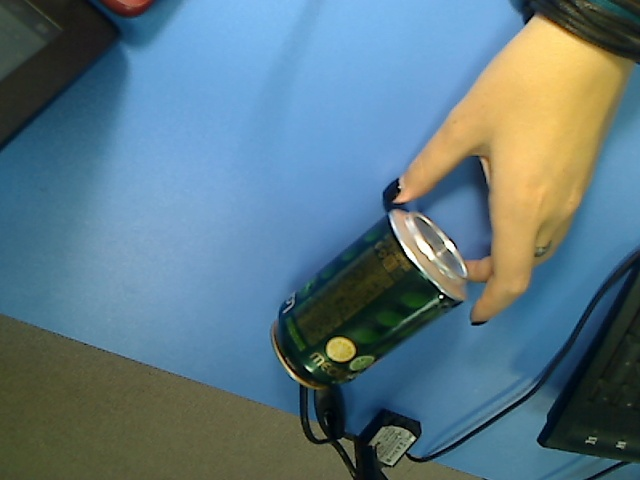can: (267, 208, 473, 394)
